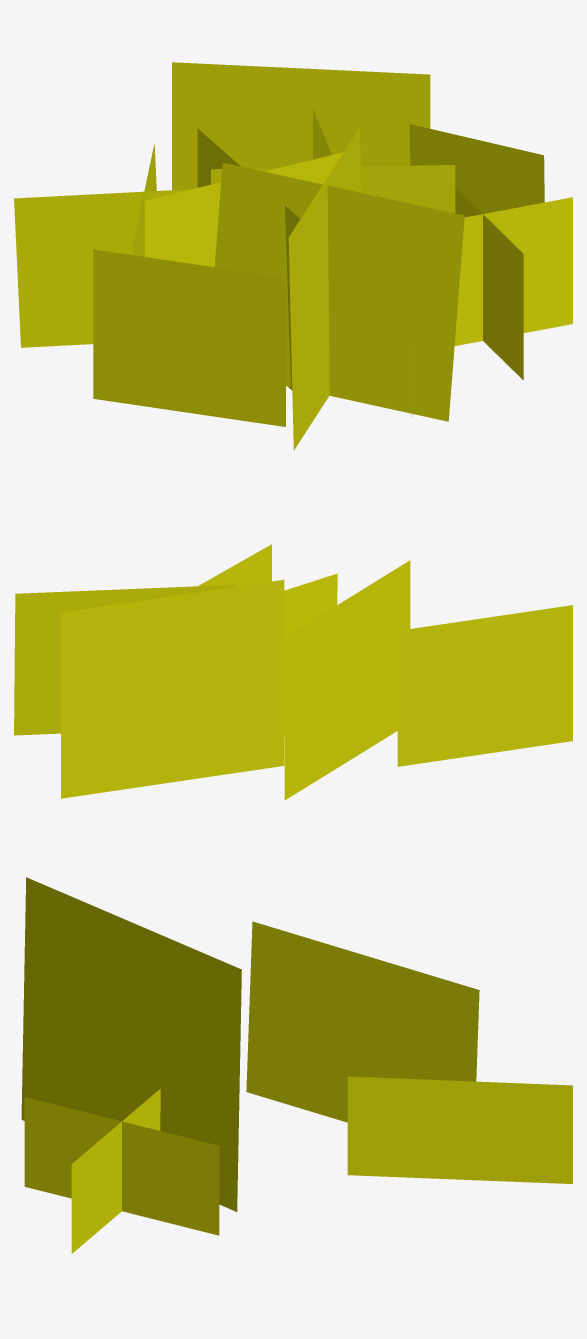
Rendered from grass_f.glb.
The picture shows the model from 3 angles, top to bottom: view 1: azimuth 30°, elevation 25°; view 2: azimuth 150°, elevation 25°; view 3: azimuth 270°, elevation 25°; orthographic projection. The views are drawn at different scales.
Visible parts, largest first — view 1: Grass_F_04; view 2: Grass_F_04; view 3: Grass_F_04.
Boxes of the visible parts, left/top/right/bottom form: Grass_F_04: left=14, top=62, right=572, bottom=450; Grass_F_04: left=14, top=544, right=572, bottom=800; Grass_F_04: left=21, top=877, right=572, bottom=1253.
Bounding box in the file's own units: 1.48 × 0.6646 × 1.35.
